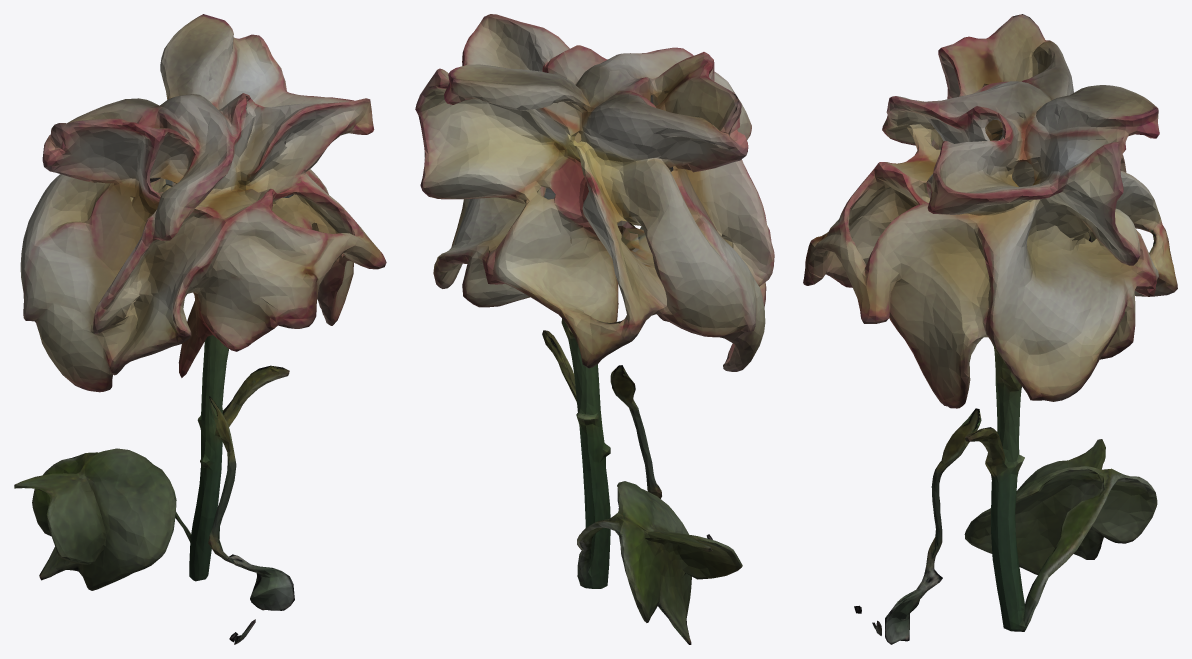
3 renders of one model, left to right at view 1: azimuth 30°, elevation 25°; view 2: azimuth 150°, elevation 25°; view 3: azimuth 270°, elevation 25°, orthographic. The views are drawn at different scales.
Visible parts, largest first — view 1: world; view 2: world; view 3: world.
Boxes of the visible parts, x1,y1,x2,y2 form: world: (14, 14, 386, 644); world: (415, 14, 774, 644); world: (803, 14, 1177, 644).
Bounding box in the file's own units: 0.5872 × 0.9645 × 0.568.
Materials: 1 (1 with a texture image).
